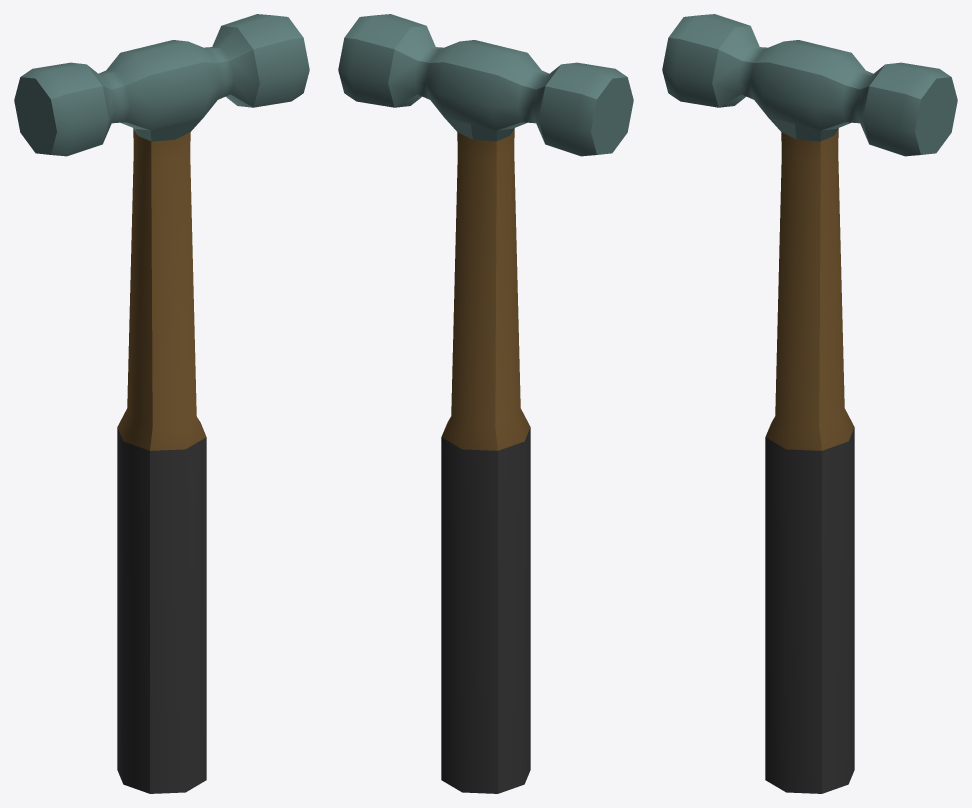
File: HammerRemake1OBJ.obj
The picture shows the model from 3 angles, left to right: view 1: azimuth 30°, elevation 25°; view 2: azimuth 150°, elevation 25°; view 3: azimuth 330°, elevation 25°; orthographic projection.
Visible parts, largest first — view 1: pCube3; view 2: pCube3; view 3: pCube3.
Part boxes in pixels (bbox=[...]): pCube3: bbox=[14, 14, 309, 793]; pCube3: bbox=[338, 14, 633, 793]; pCube3: bbox=[662, 14, 957, 793].
Bounding box in the file's own units: 6.55 × 18.11 × 2.16.
